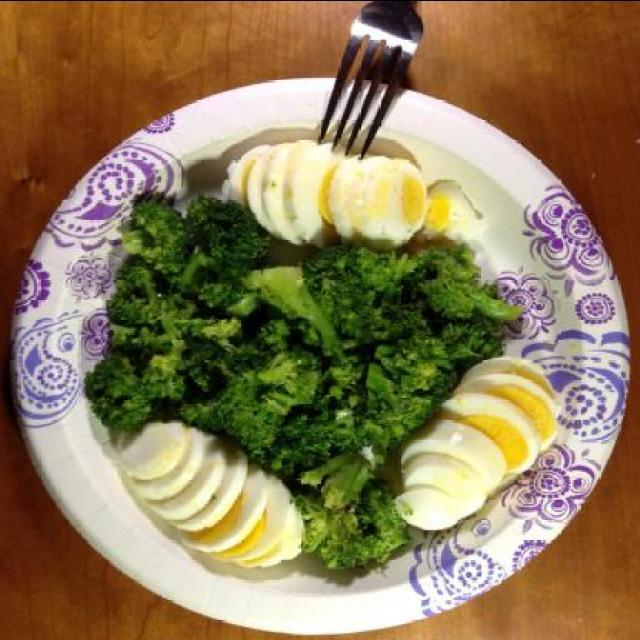Broccoli: (80, 197, 522, 568)
